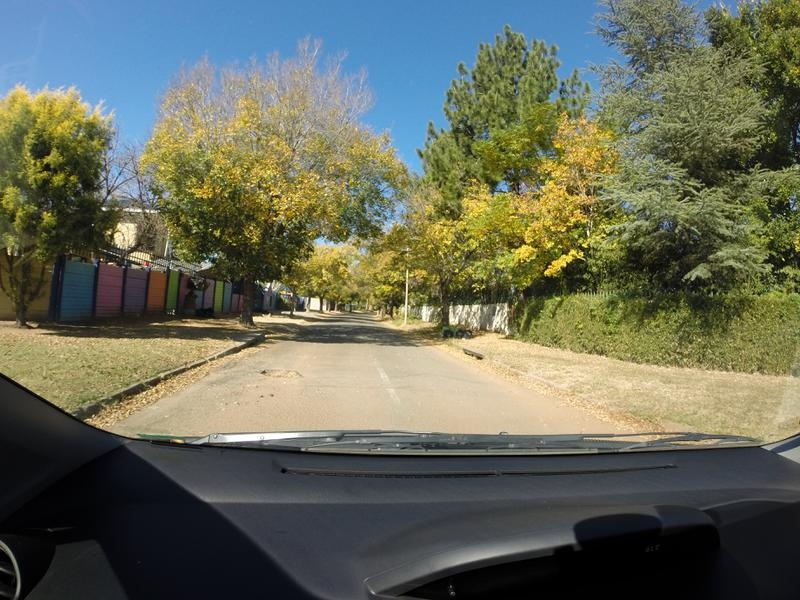pothole: (254, 358, 312, 381)
